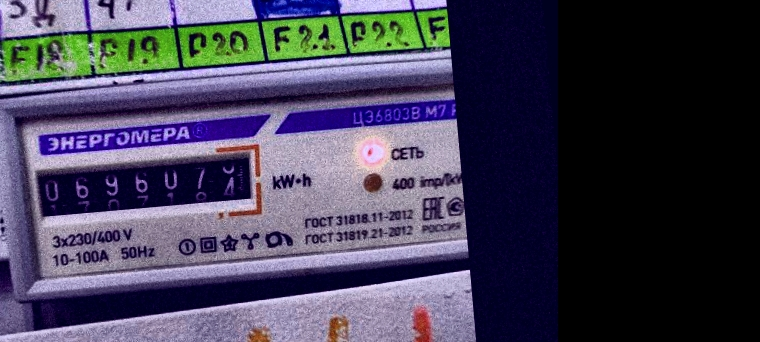0: (42, 176, 61, 202), (161, 164, 178, 190)
4: (219, 174, 237, 199)
6: (131, 167, 150, 193), (72, 174, 91, 199)
7: (191, 163, 209, 190)
9: (102, 171, 120, 196)
screen: (21, 136, 269, 231)
